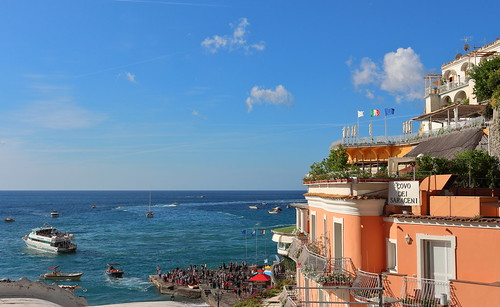boat: (22, 221, 82, 257)
building: (316, 131, 483, 307), (420, 29, 500, 134)
sea: (1, 193, 281, 307)
sky: (2, 1, 471, 184)
